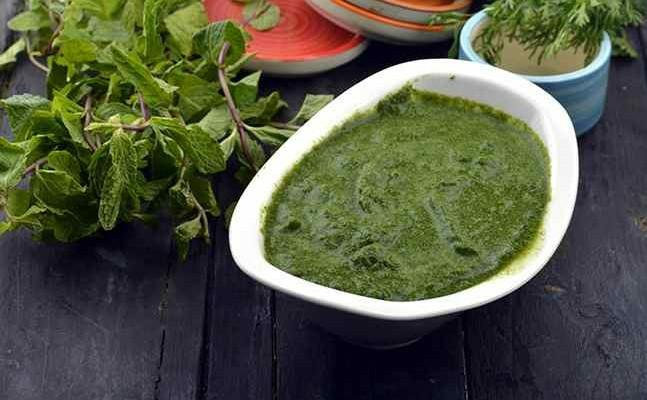GreenChutney: (263, 83, 552, 301)
